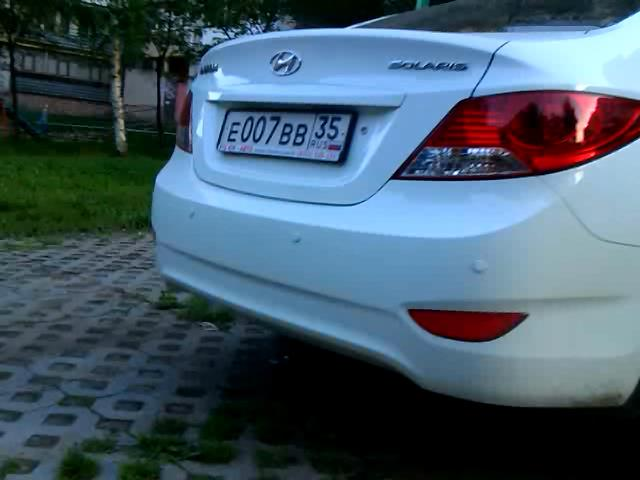car license plate: (215, 107, 357, 165)
